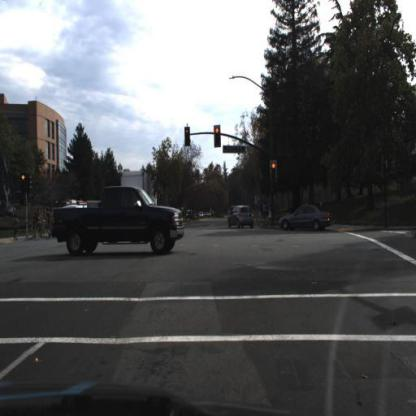biker: (27, 207, 51, 243), (26, 210, 51, 244)
car: (52, 185, 187, 260), (280, 205, 333, 233), (118, 169, 159, 198), (229, 206, 256, 230)
pedestrian: (13, 214, 20, 243), (263, 203, 271, 221)
trafficLight-Red: (213, 122, 222, 150), (271, 158, 279, 184)
trafficLight-RedLeft: (20, 171, 31, 196), (184, 123, 193, 146), (21, 172, 28, 192)
truck: (118, 171, 159, 191)
